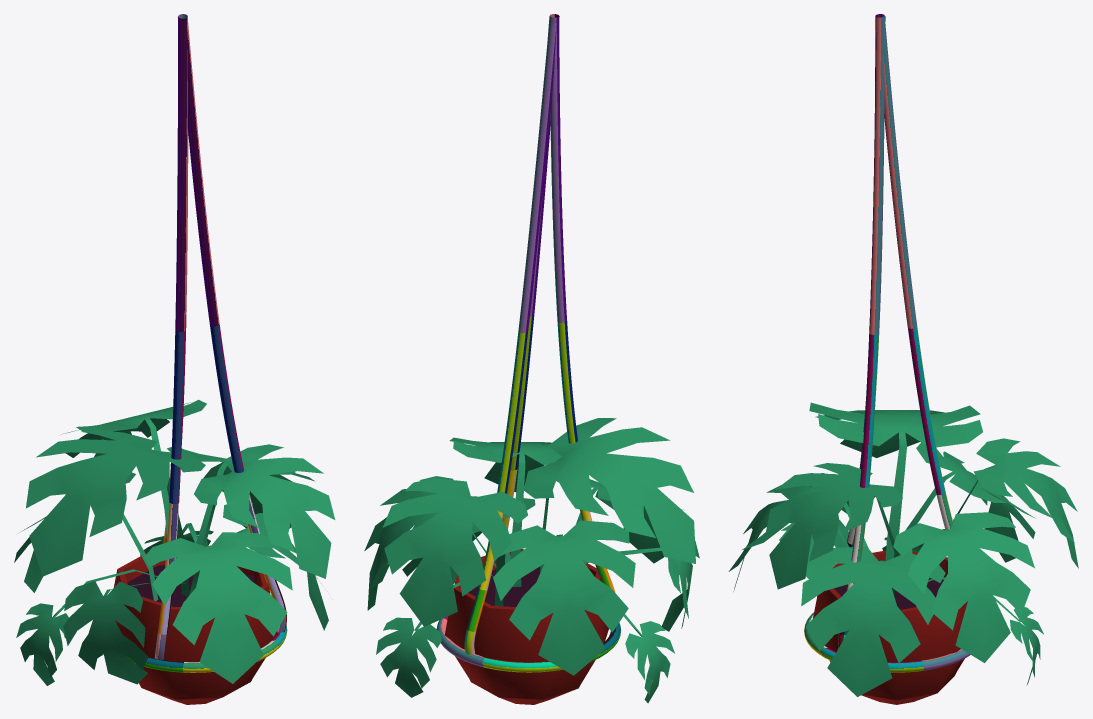
Rendered from hangingplants.fbx.
3 views of the same model, side by side, from view 1: azimuth 30°, elevation 25°; view 2: azimuth 150°, elevation 25°; view 3: azimuth 270°, elevation 25° (orthographic). The views are drawn at different scales.
Parts seen in each view (by area): view 1: HangingPlants.001; view 2: HangingPlants.001; view 3: HangingPlants.001.
Part boxes in pixels (x1=…): HangingPlants.001: x1=14, y1=14, x2=335, y2=704; HangingPlants.001: x1=364, y1=14, x2=699, y2=704; HangingPlants.001: x1=728, y1=14, x2=1078, y2=704.
Size of the model in its own units: 3.19 by 7.05 by 3.34.
